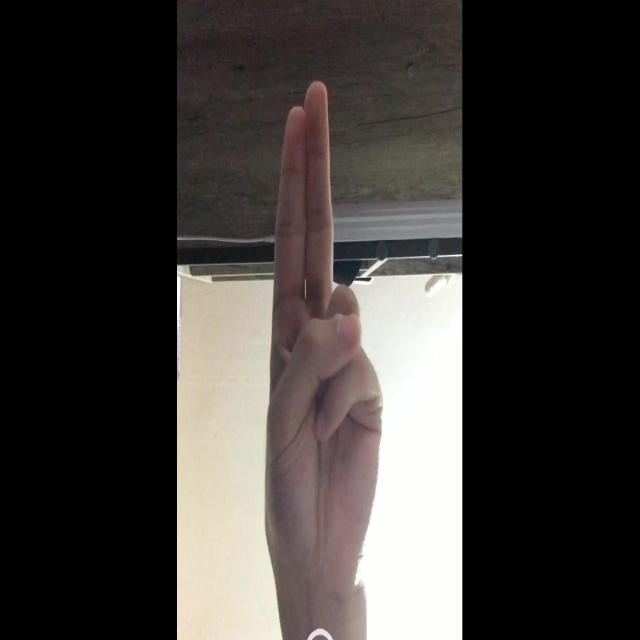U: (264, 81, 386, 595)
